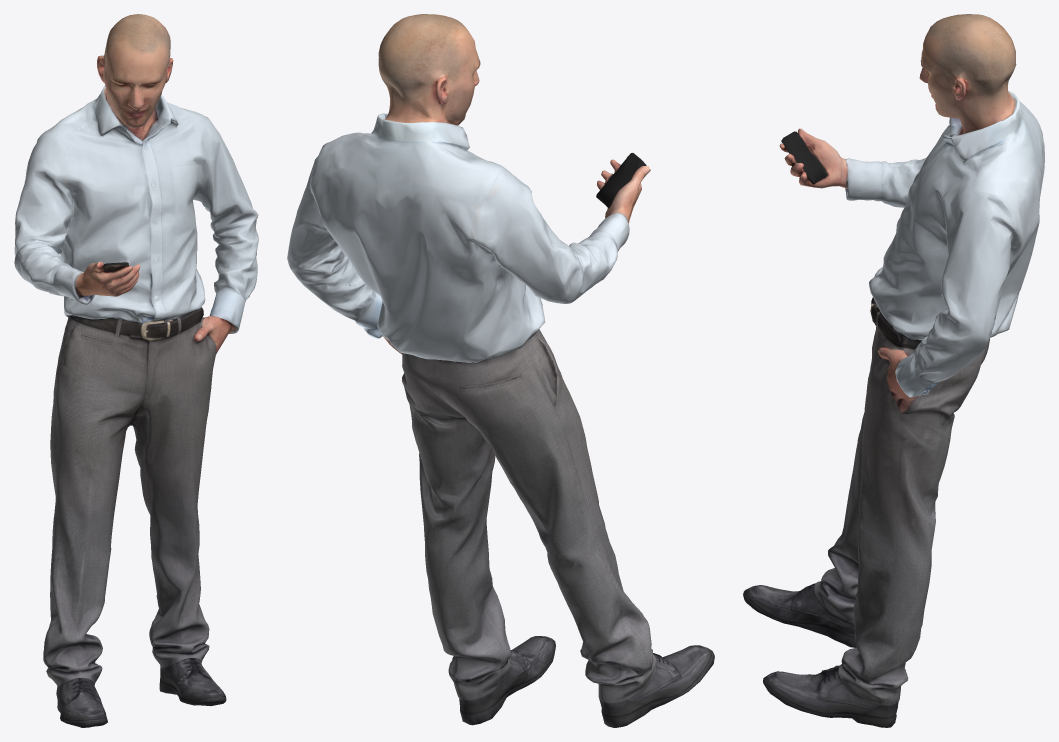
Rendered from office-guy.dae.
The picture shows the model from 3 angles, left to right: view 1: azimuth 30°, elevation 25°; view 2: azimuth 150°, elevation 25°; view 3: azimuth 270°, elevation 25°; orthographic projection. The views are drawn at different scales.
Visible parts, largest first — view 1: BMan0006-HD2-O01P05-S; view 2: BMan0006-HD2-O01P05-S; view 3: BMan0006-HD2-O01P05-S.
Boxes of the visible parts, left/top/right/bottom form: BMan0006-HD2-O01P05-S: left=14, top=14, right=258, bottom=727; BMan0006-HD2-O01P05-S: left=287, top=14, right=714, bottom=727; BMan0006-HD2-O01P05-S: left=743, top=14, right=1044, bottom=727.
Size of the model in its own units: 73.81 by 167 by 64.28.
